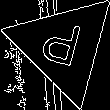P_S: (39, 17, 88, 76)
